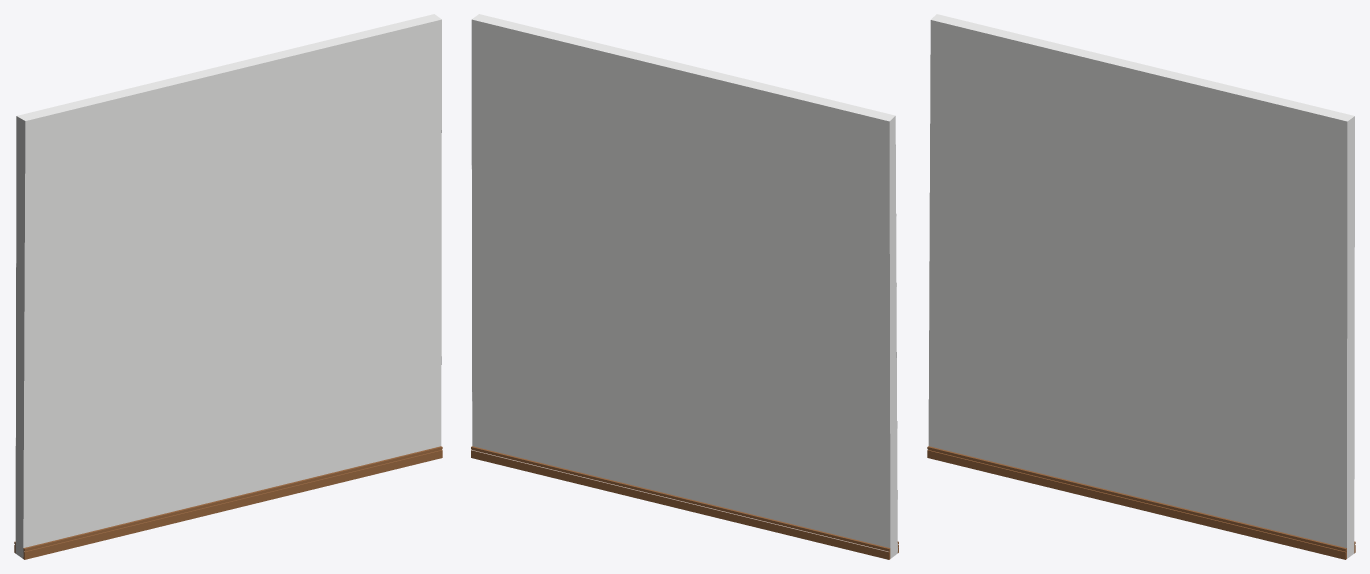
The model's file is wall.glb.
3 renders of one model, left to right at view 1: azimuth 30°, elevation 25°; view 2: azimuth 150°, elevation 25°; view 3: azimuth 330°, elevation 25°, orthographic.
Visible parts, largest first — view 1: Plane; view 2: Plane; view 3: Plane.
Boxes of the visible parts, <box> form: Plane: <box>14,14,442,559</box>; Plane: <box>471,14,898,559</box>; Plane: <box>927,14,1355,559</box>.
Bounding box in the file's own units: 2 × 2 × 0.0826.
Materials: 1 (1 with a texture image).
